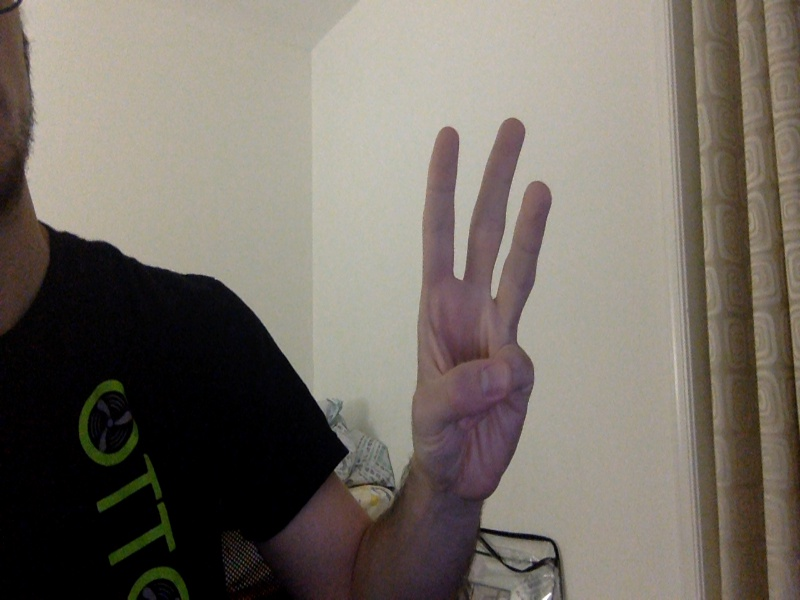3-hand: (418, 120, 554, 503)
